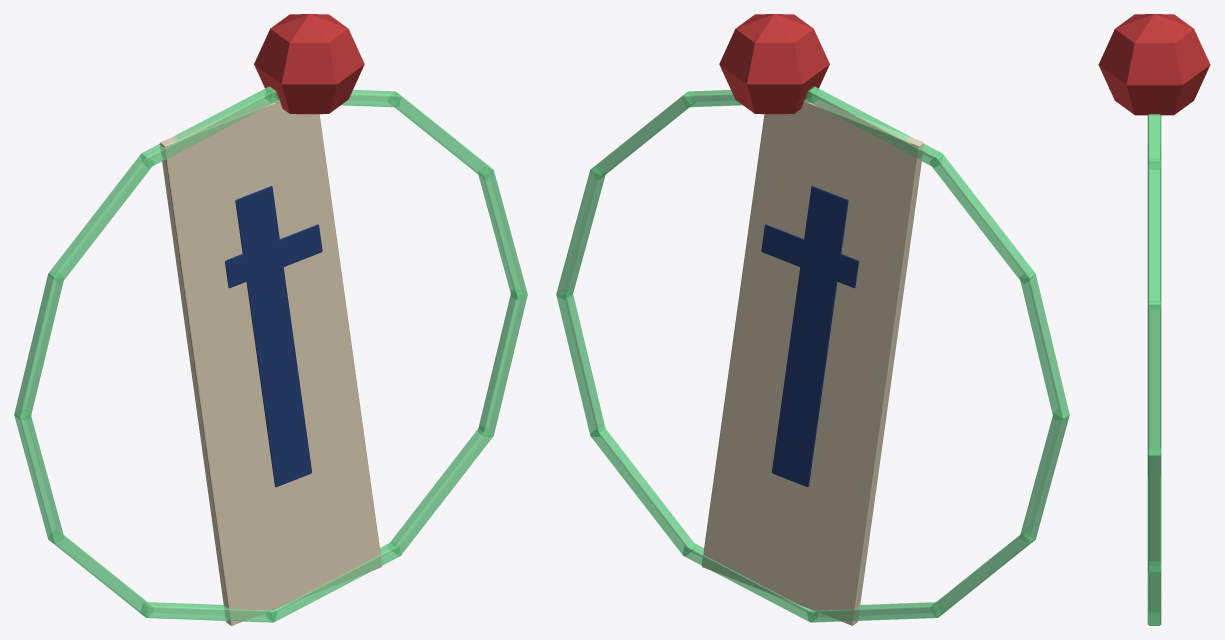
File: ward_talisman.glb
The picture shows the model from 3 angles, left to right: view 1: azimuth 30°, elevation 25°; view 2: azimuth 150°, elevation 25°; view 3: azimuth 270°, elevation 25°; orthographic projection.
Parts seen in each view (by area): view 1: paper_slip, ink_glyph, seal_stamp, glow_4, glow_10, glow_11, glow_5, glow_3, ink_bar, glow_6, glow_0, glow_8 (+4 smaller); view 2: paper_slip, ink_glyph, seal_stamp, glow_4, glow_10, glow_11, glow_5, glow_3, glow_6, glow_0, ink_bar, glow_8 (+4 smaller); view 3: seal_stamp, paper_slip, glow_0, glow_1, glow_11, glow_10, glow_2, ink_glyph.
Boxes of the visible parts, x1=… form: paper_slip: x1=159, y1=99, x2=382, y2=625; ink_glyph: x1=235, y1=186, x2=311, y2=487; seal_stamp: x1=254, y1=14, x2=364, y2=114; glow_4: x1=48, y1=153, x2=153, y2=283; glow_10: x1=388, y1=425, x2=493, y2=555; glow_11: x1=478, y1=289, x2=527, y2=436; glow_5: x1=14, y1=272, x2=63, y2=419; glow_3: x1=141, y1=87, x2=276, y2=167; ink_bar: x1=225, y1=224, x2=322, y2=288; glow_6: x1=14, y1=409, x2=63, y2=543; glow_0: x1=478, y1=166, x2=527, y2=300; glow_8: x1=141, y1=602, x2=276, y2=622; paper_slip: x1=701, y1=99, x2=924, y2=625; ink_glyph: x1=772, y1=186, x2=848, y2=487; seal_stamp: x1=719, y1=14, x2=829, y2=114; glow_4: x1=930, y1=153, x2=1035, y2=283; glow_10: x1=590, y1=425, x2=695, y2=555; glow_11: x1=556, y1=289, x2=605, y2=436; glow_5: x1=1020, y1=272, x2=1069, y2=419; glow_3: x1=807, y1=87, x2=942, y2=167; glow_6: x1=1020, y1=409, x2=1069, y2=543; glow_0: x1=556, y1=166, x2=605, y2=300; ink_bar: x1=761, y1=224, x2=858, y2=288; glow_8: x1=807, y1=602, x2=942, y2=622; seal_stamp: x1=1098, y1=14, x2=1210, y2=115; paper_slip: x1=1149, y1=116, x2=1159, y2=608; glow_0: x1=1147, y1=301, x2=1161, y2=456; glow_1: x1=1147, y1=159, x2=1161, y2=309; glow_11: x1=1147, y1=447, x2=1161, y2=573; glow_10: x1=1147, y1=561, x2=1161, y2=625; glow_2: x1=1147, y1=114, x2=1161, y2=169; ink_glyph: x1=1148, y1=145, x2=1160, y2=474.
Size of the model in its own units: 0.53 by 0.595 by 0.1.
